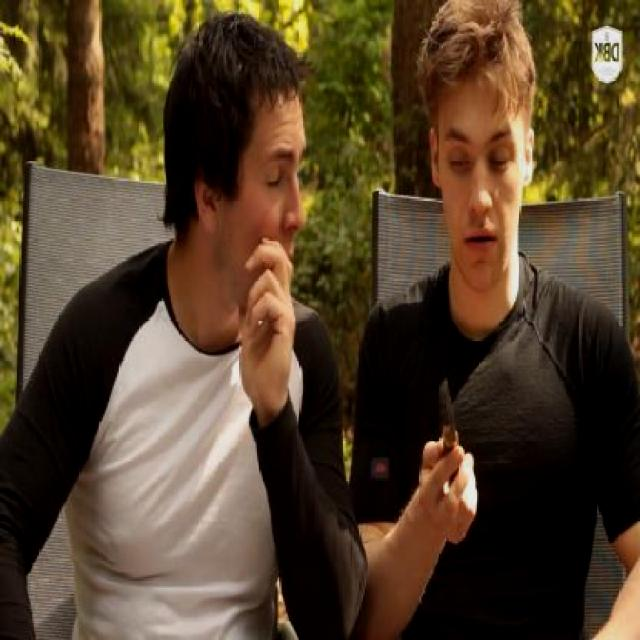knife: (416, 352, 484, 523)
